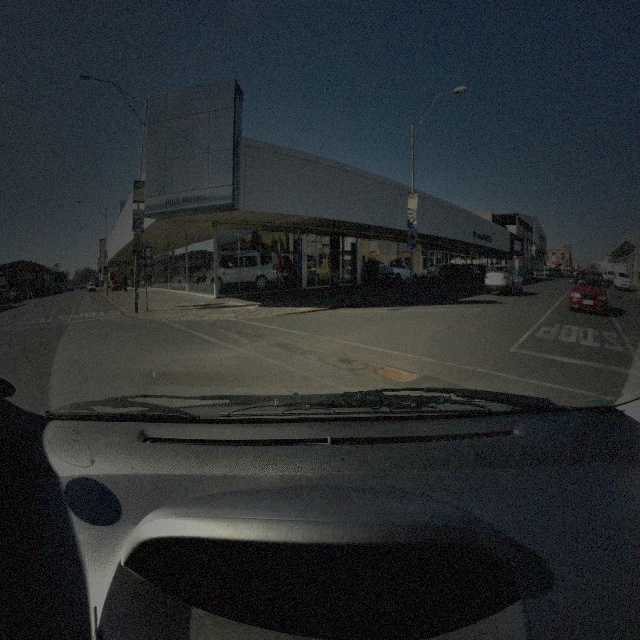pothole: (371, 359, 419, 382)
